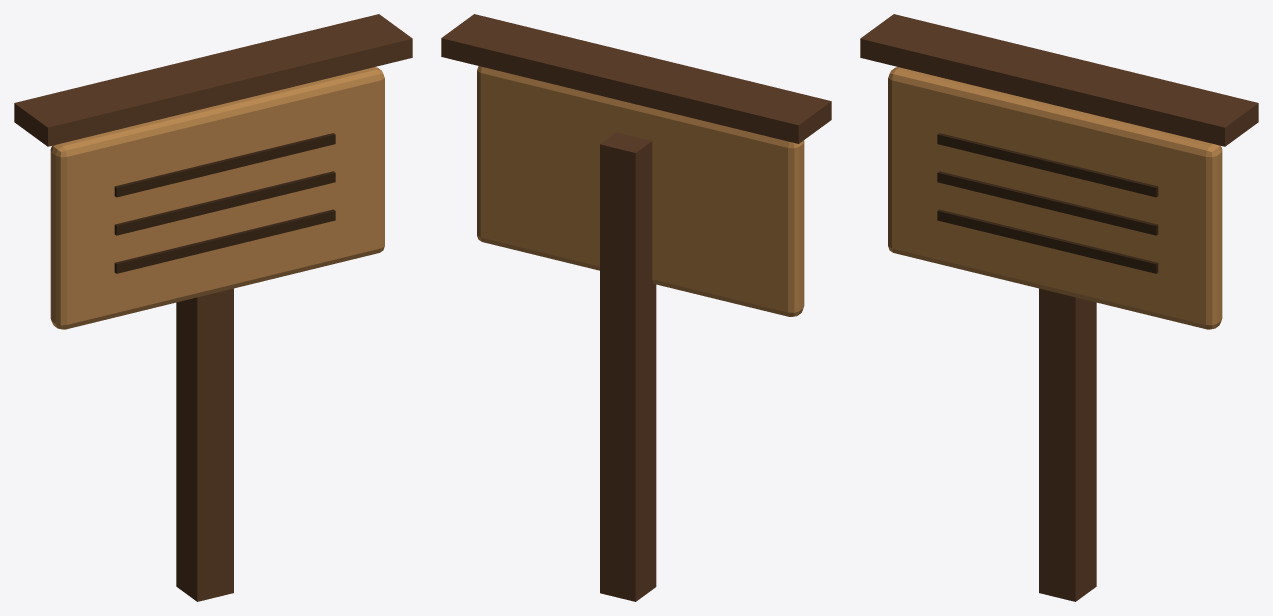
Rendered from prop_sign.glb.
The picture shows the model from 3 angles, left to right: view 1: azimuth 30°, elevation 25°; view 2: azimuth 150°, elevation 25°; view 3: azimuth 330°, elevation 25°; orthographic projection. The views are drawn at different scales.
Visible parts, largest first — view 1: board, roofb, post, line.002, line, line.001; view 2: board, post, roofb; view 3: board, roofb, post, line.002, line, line.001.
Part boxes in pixels (bbox=[...]): board: bbox=[50, 67, 384, 329]; roofb: bbox=[14, 14, 412, 146]; post: bbox=[176, 288, 233, 601]; line.002: bbox=[114, 133, 335, 197]; line: bbox=[114, 209, 335, 273]; line.001: bbox=[114, 171, 335, 235]; board: bbox=[477, 66, 804, 316]; post: bbox=[600, 132, 656, 601]; roofb: bbox=[441, 14, 831, 143]; board: bbox=[888, 67, 1222, 329]; roofb: bbox=[860, 14, 1258, 146]; post: bbox=[1039, 288, 1096, 601]; line.002: bbox=[937, 133, 1158, 197]; line: bbox=[937, 209, 1158, 273]; line.001: bbox=[937, 171, 1158, 235].
Bounding box in the file's own units: 1 × 1.38 × 0.17.
